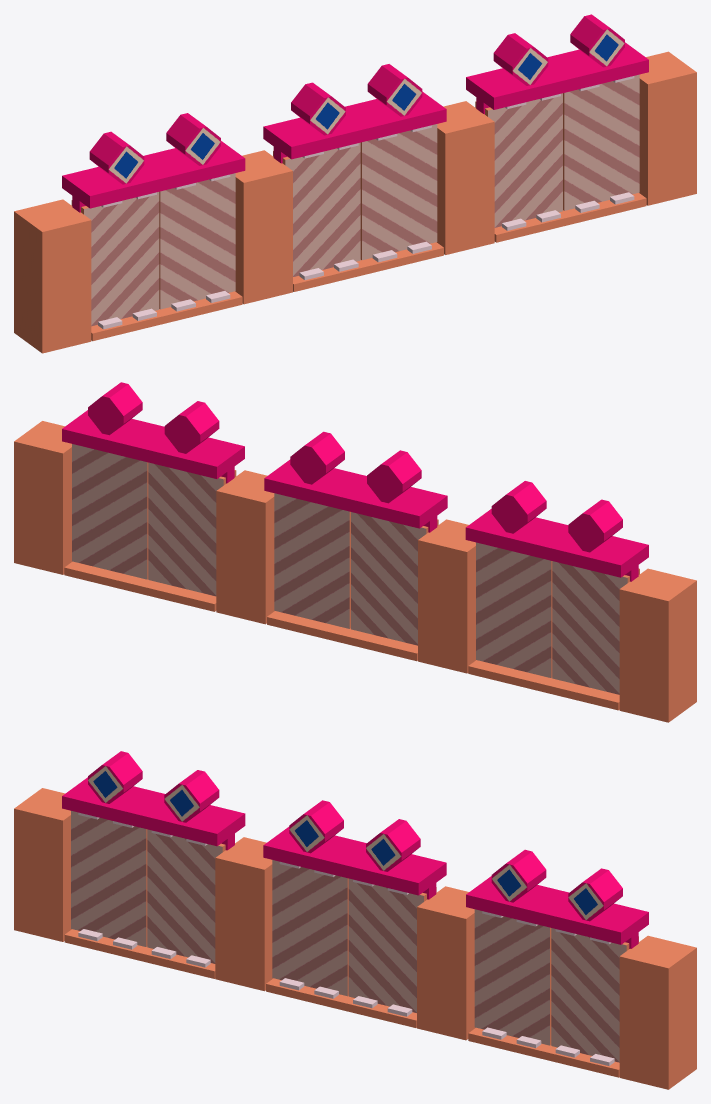
File: OBS0110025.fbx
The picture shows the model from 3 angles, top to bottom: view 1: azimuth 30°, elevation 25°; view 2: azimuth 150°, elevation 25°; view 3: azimuth 330°, elevation 25°; orthographic projection.
Parts seen in each view (by area): view 1: smOBS0110025; view 2: smOBS0110025; view 3: smOBS0110025.
Part boxes in pixels (box(x1,y1,x2,y2)): smOBS0110025: box(14, 14, 696, 353); smOBS0110025: box(14, 382, 696, 722); smOBS0110025: box(14, 751, 696, 1089).
Bounding box in the file's own units: 1217 × 325 × 91.36.
Materials: 1 (1 with a texture image).
